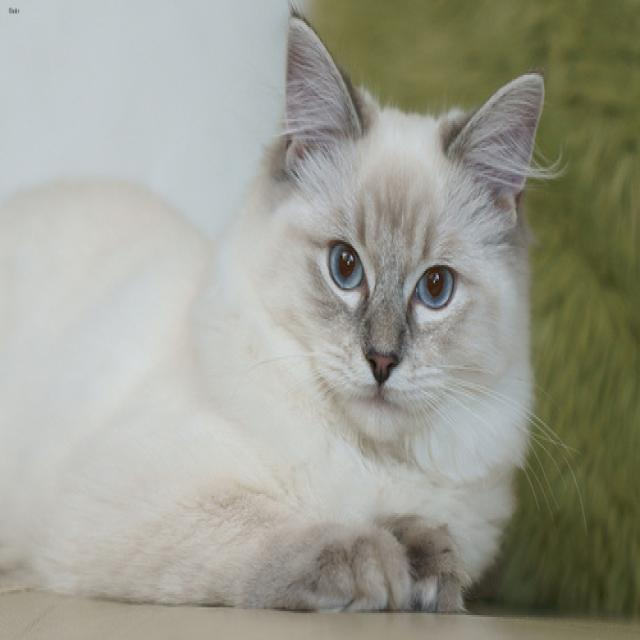Ragdoll: (282, 14, 542, 437)
